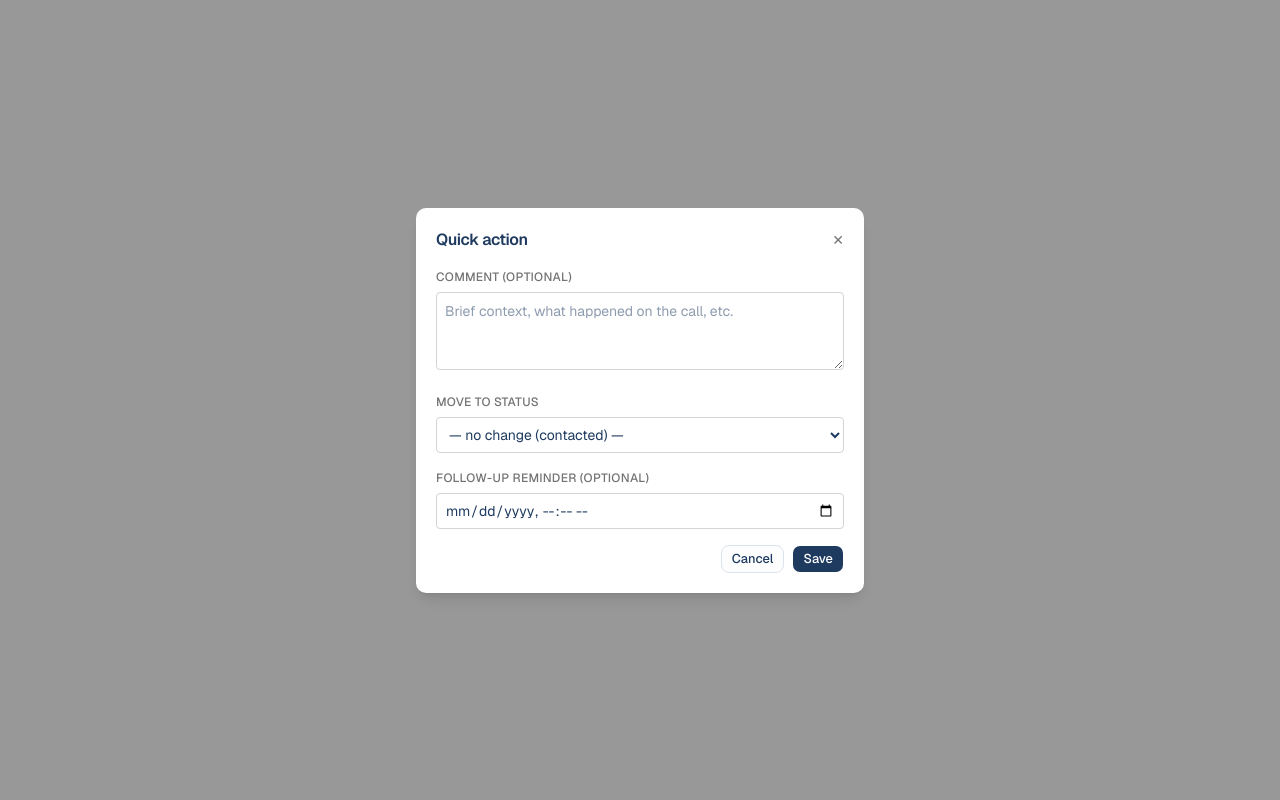
Test: <QuickActionModal> › blocks save when all three fields are empty
What coordinates should you click on to do the following:
click the button with test id "quick-action-save"
I would click on:
 (818, 558)
Its box is [792, 544, 844, 572].
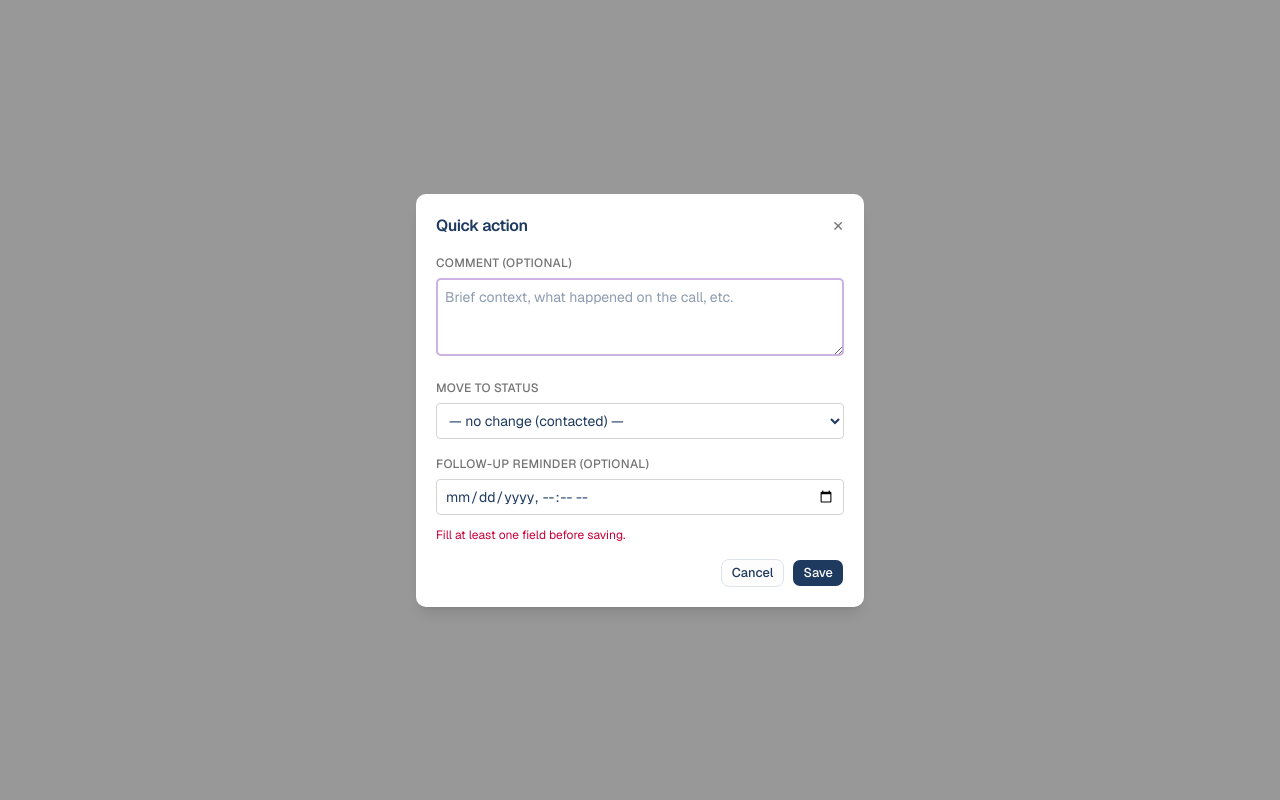
Result: the message with test id "quick-action-error" shows "at least one field" at [436, 526, 626, 542]
